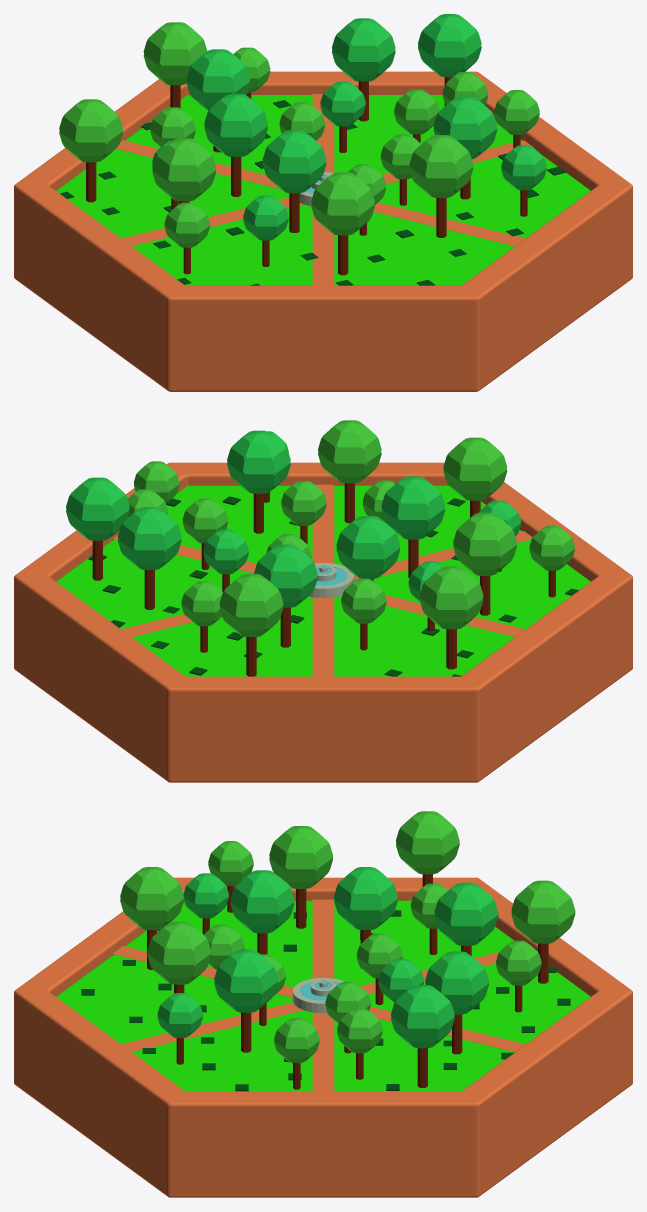
Rendered from PARK.fbx.
3 views of the same model, one above another, from view 1: azimuth 30°, elevation 25°; view 2: azimuth 150°, elevation 25°; view 3: azimuth 270°, elevation 25° (orthographic).
Visible parts, largest first — view 1: liście.024; view 2: liście.024; view 3: liście.024.
Boxes of the visible parts, bbox=[...] form: liście.024: bbox=[14, 14, 632, 391]; liście.024: bbox=[14, 420, 632, 782]; liście.024: bbox=[14, 811, 632, 1197].
Size of the model in its own units: 173 by 65.15 by 200.
